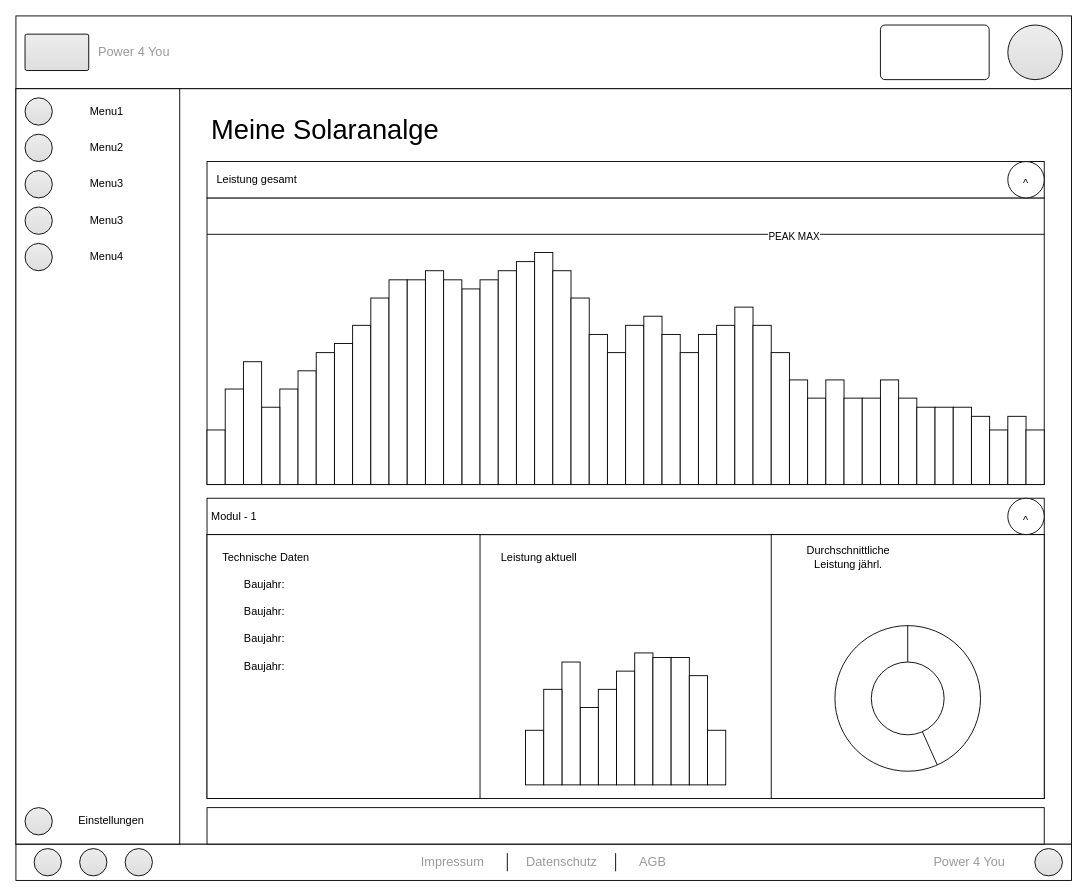
This 1087x896 diagram has some shape labels left out. The box of each missing label's shape, as (x1, y1, x2, y2) in pixels:
Log Out: (880, 24, 989, 80)
Modul - 2: (206, 807, 1044, 844)
